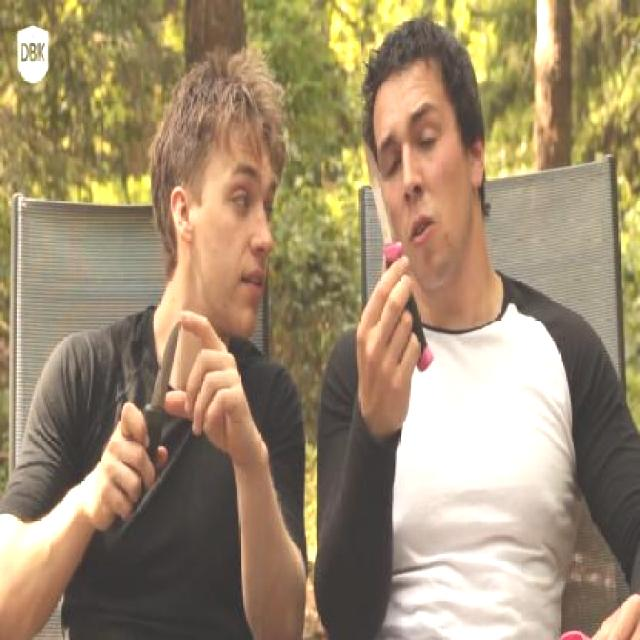knife: (352, 117, 420, 323), (125, 310, 189, 472)
